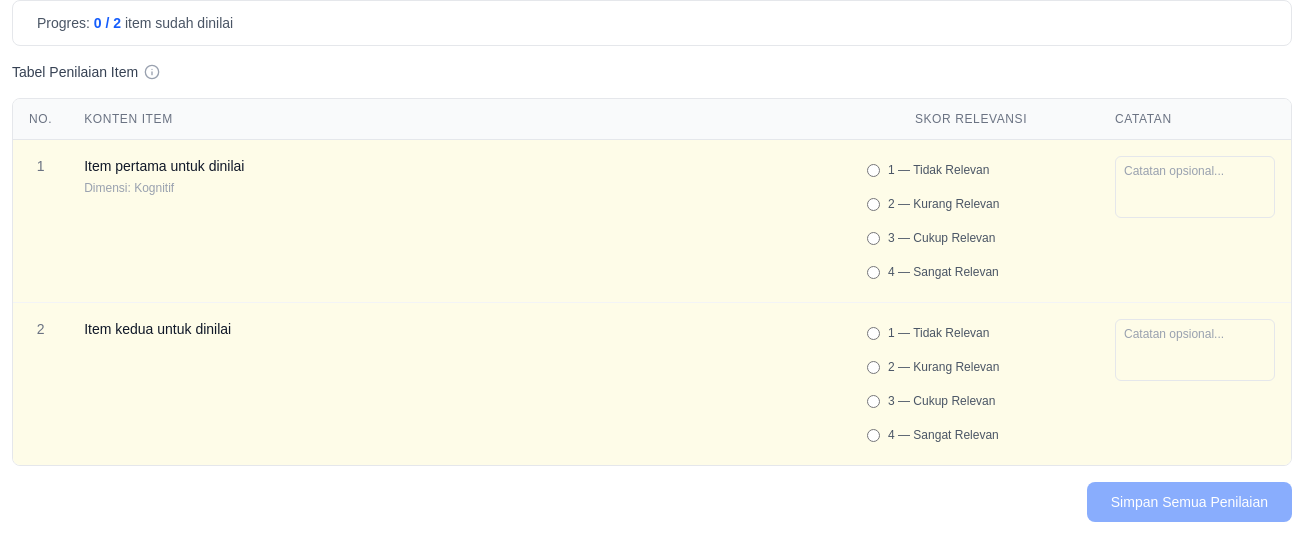
RatingForm › harus mengupdate progress saat radio button dipilih
The image size is (1304, 539).
Note: Pilih skor 3 untuk item pertama
Click the 1st radio button labelled "3 — Cukup Relevan". click: coordinates (874, 238)
box: [867,232,880,244]
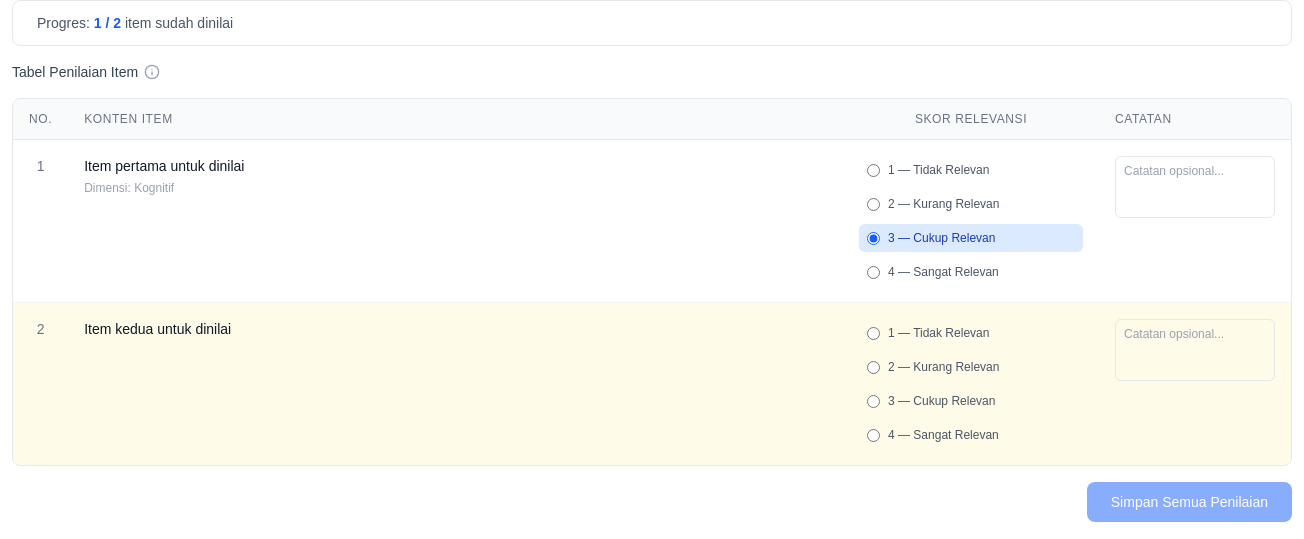
Expected: the text "1 / 2" is shown, [94,15,121,31]
